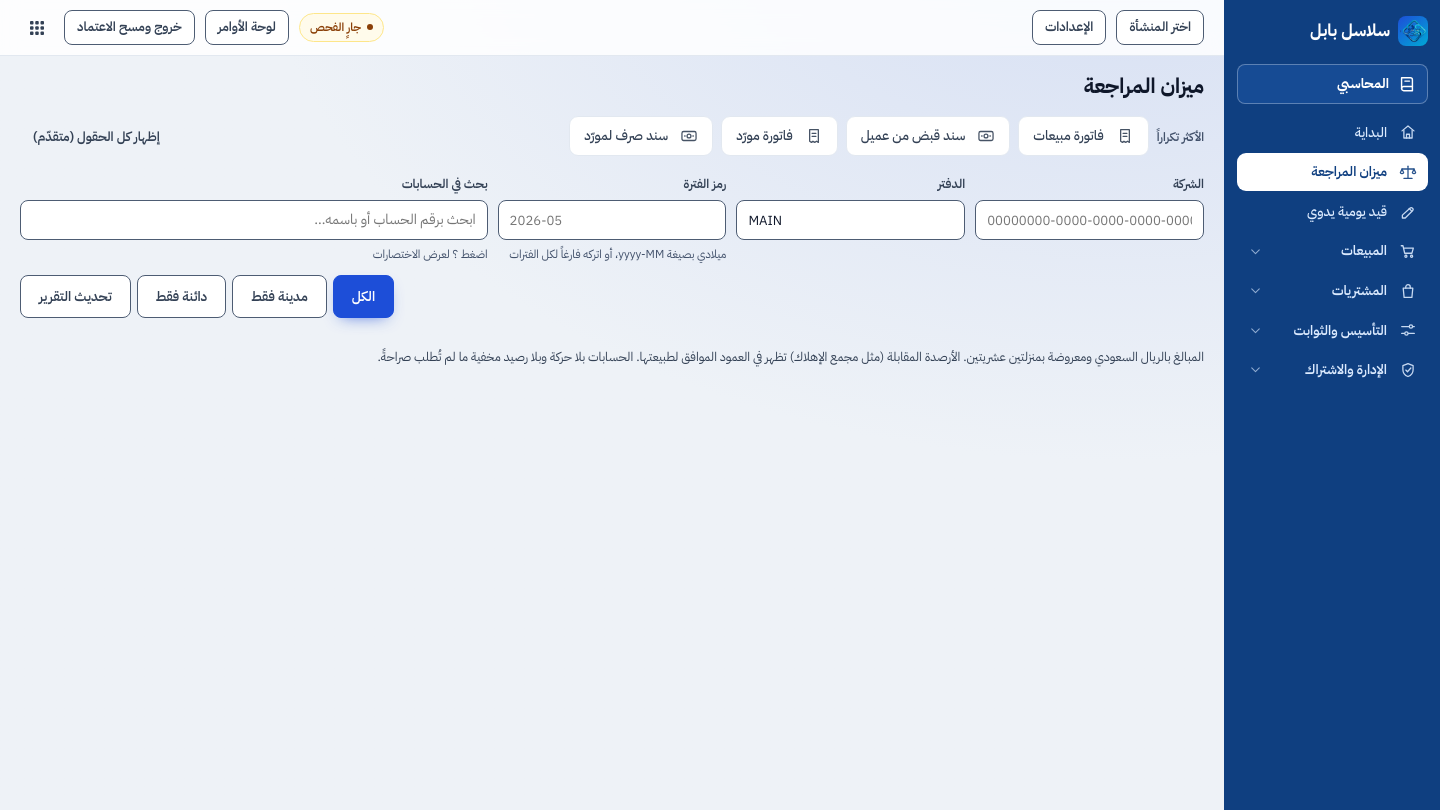
Test: مُشغّلُ الأنظمة › اللوحُ مغلقٌ حتى يُفتح، ويحمل الأنظمة الخمسة برموزها
This screenshot has width=1440, height=810.
Click the button with test id "open-launcher" at x=37, y=28, box [20,10,54,44]
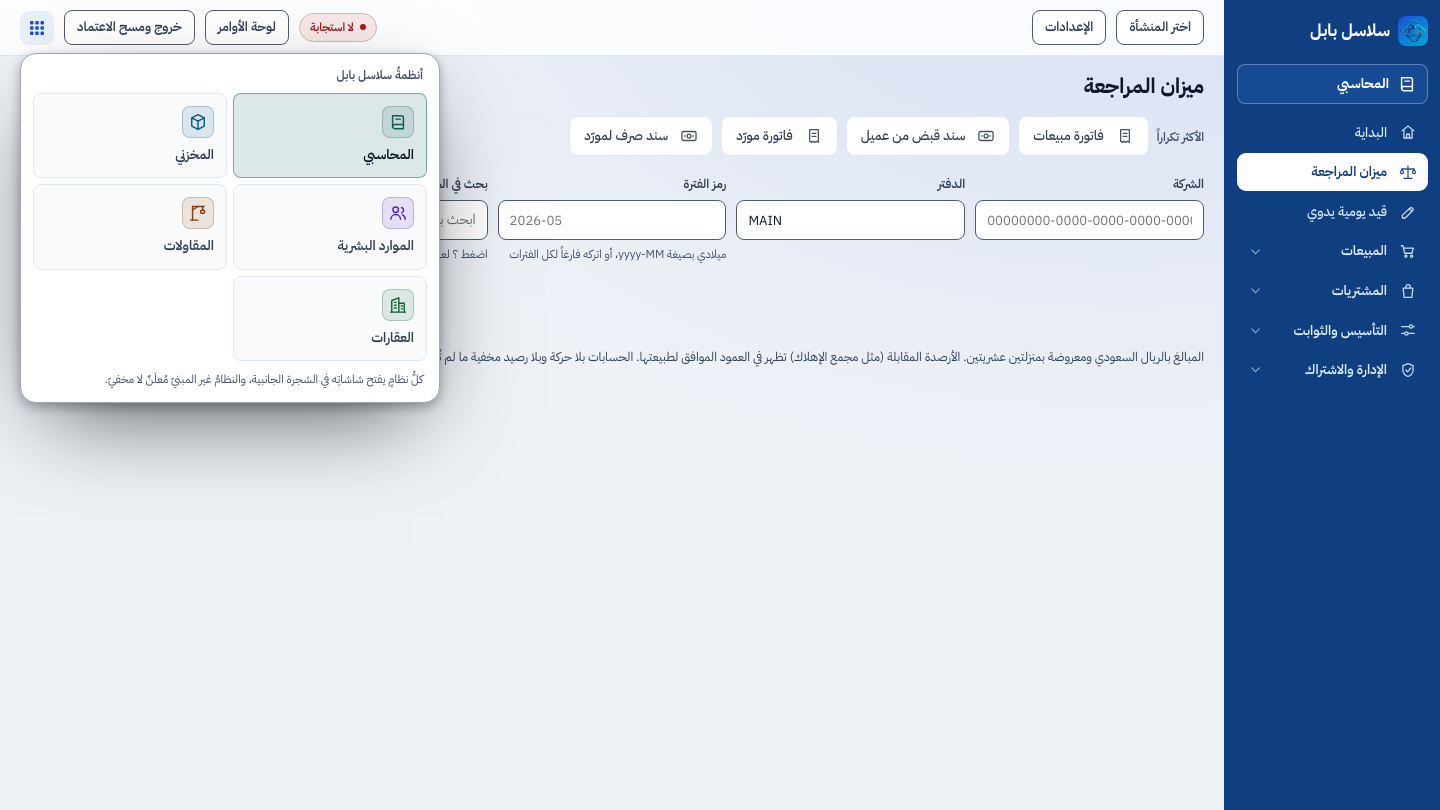
Expected: the button with test id "open-launcher" is expanded, [20,10,54,44]
